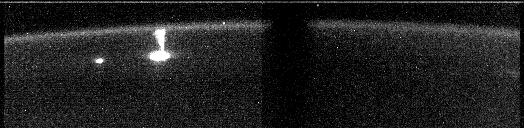positive: (151, 27, 168, 52)
